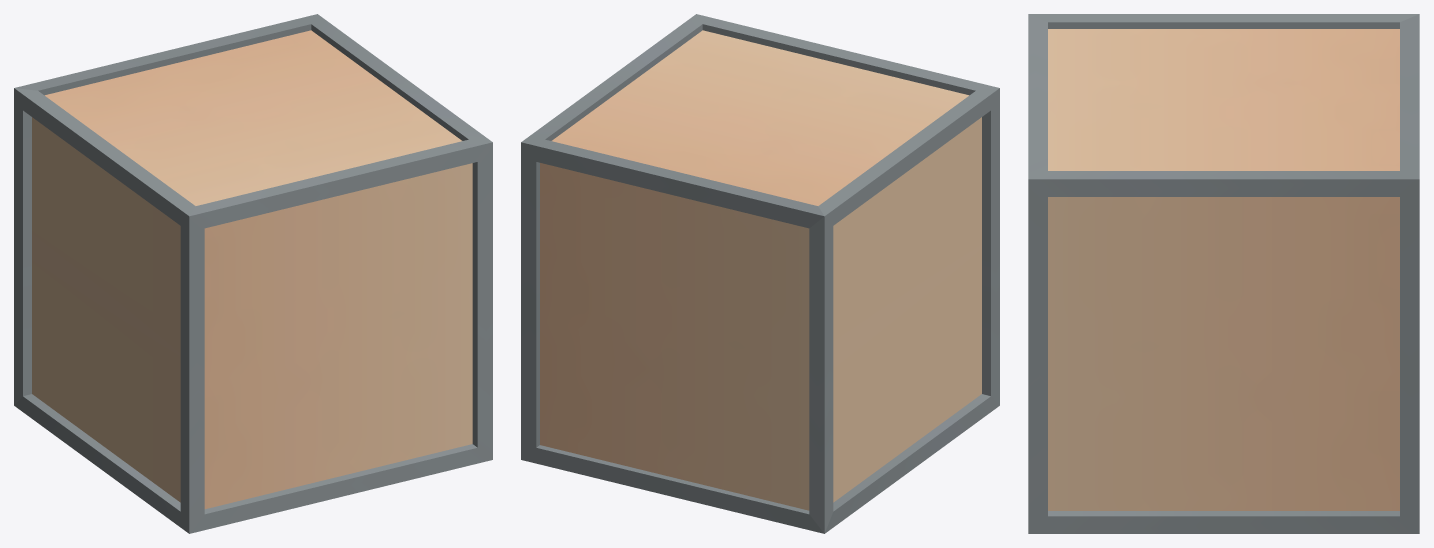
The picture shows the model from 3 angles, left to right: view 1: azimuth 30°, elevation 25°; view 2: azimuth 150°, elevation 25°; view 3: azimuth 270°, elevation 25°; orthographic projection. The views are drawn at different scales.
Visible parts, largest first — view 1: box; view 2: box; view 3: box.
Part boxes in pixels (x1=…): box: x1=14, y1=14, x2=492, y2=533; box: x1=521, y1=14, x2=999, y2=533; box: x1=1028, y1=14, x2=1419, y2=533.
Size of the model in its own units: 120 by 120 by 120.
1 material, 1 textured.
